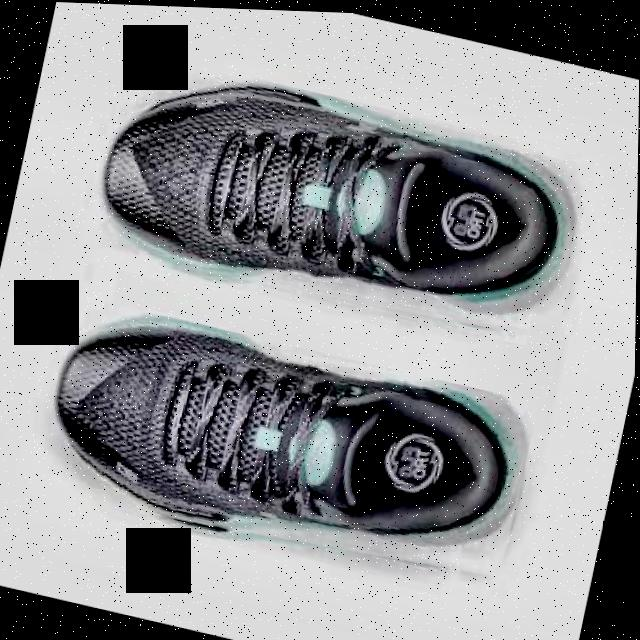shoe: (87, 47, 597, 355), (34, 294, 542, 599)
